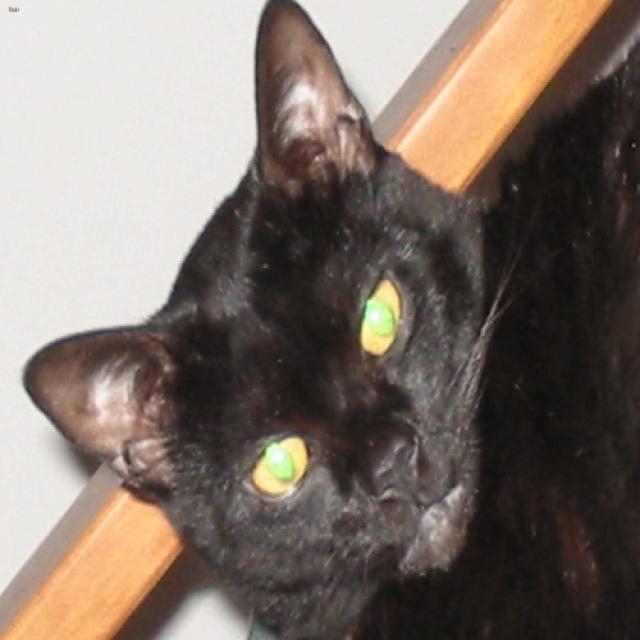Bombay: (4, 2, 500, 593)
